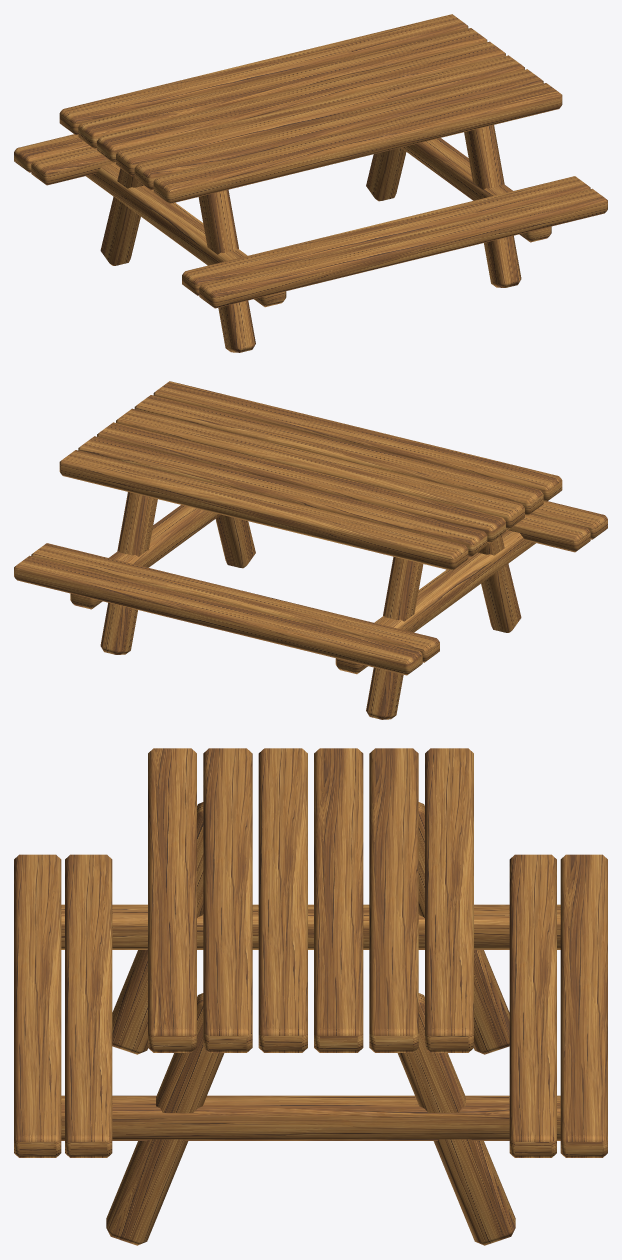
File: 04_Mesa_Picnic.obj
3 renders of one model, top to bottom at view 1: azimuth 30°, elevation 25°; view 2: azimuth 150°, elevation 25°; view 3: azimuth 270°, elevation 25°, orthographic. The views are drawn at different scales.
Visible parts, largest first — view 1: 04_Mesa_Picnic_Wood; view 2: 04_Mesa_Picnic_Wood; view 3: 04_Mesa_Picnic_Wood.
Part boxes in pixels (<box>): 04_Mesa_Picnic_Wood: <box>14,14,607,352</box>; 04_Mesa_Picnic_Wood: <box>14,381,607,719</box>; 04_Mesa_Picnic_Wood: <box>14,748,607,1245</box>.
Bounding box in the file's own units: 1.85 × 0.7795 × 1.63.
Materials: 1 (1 with a texture image).
